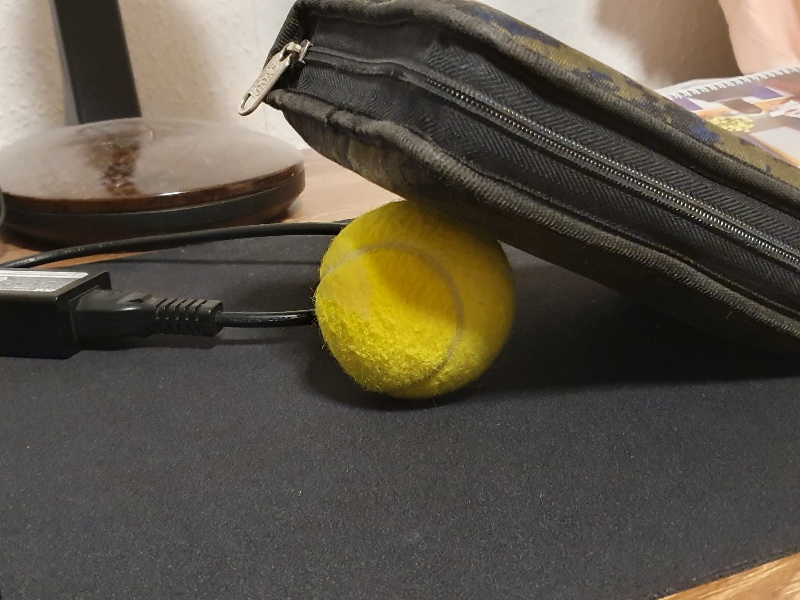Tennisball: (303, 194, 535, 412)
